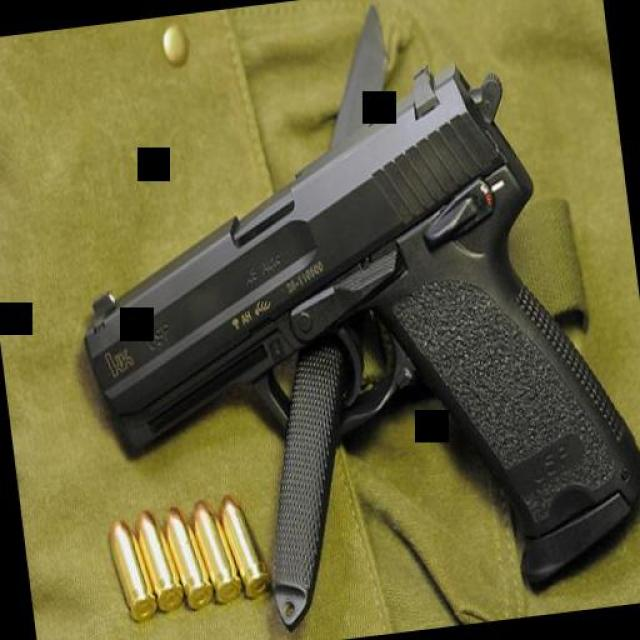gun: (50, 39, 640, 640)
